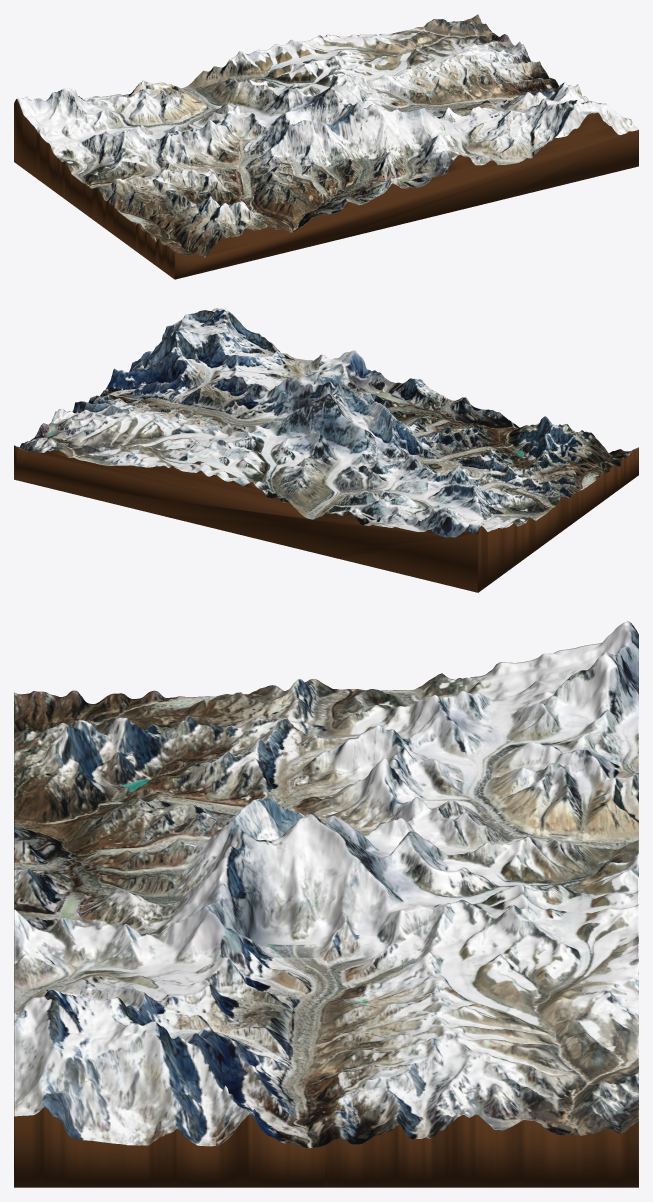
Rendered from mount_everest_3d_model.glb.
The picture shows the model from 3 angles, top to bottom: view 1: azimuth 30°, elevation 25°; view 2: azimuth 150°, elevation 25°; view 3: azimuth 270°, elevation 25°; orthographic projection. The views are drawn at different scales.
Visible parts, largest first — view 1: EXPORT_GOOGLE_SAT_WM; view 2: EXPORT_GOOGLE_SAT_WM; view 3: EXPORT_GOOGLE_SAT_WM.
Boxes of the visible parts, bbox=[...] form: EXPORT_GOOGLE_SAT_WM: bbox=[14, 14, 638, 279]; EXPORT_GOOGLE_SAT_WM: bbox=[14, 308, 638, 592]; EXPORT_GOOGLE_SAT_WM: bbox=[14, 621, 638, 1187].
Bounding box in the file's own units: 6.36 × 1.05 × 3.81.
Materials: 2 (1 with a texture image).
